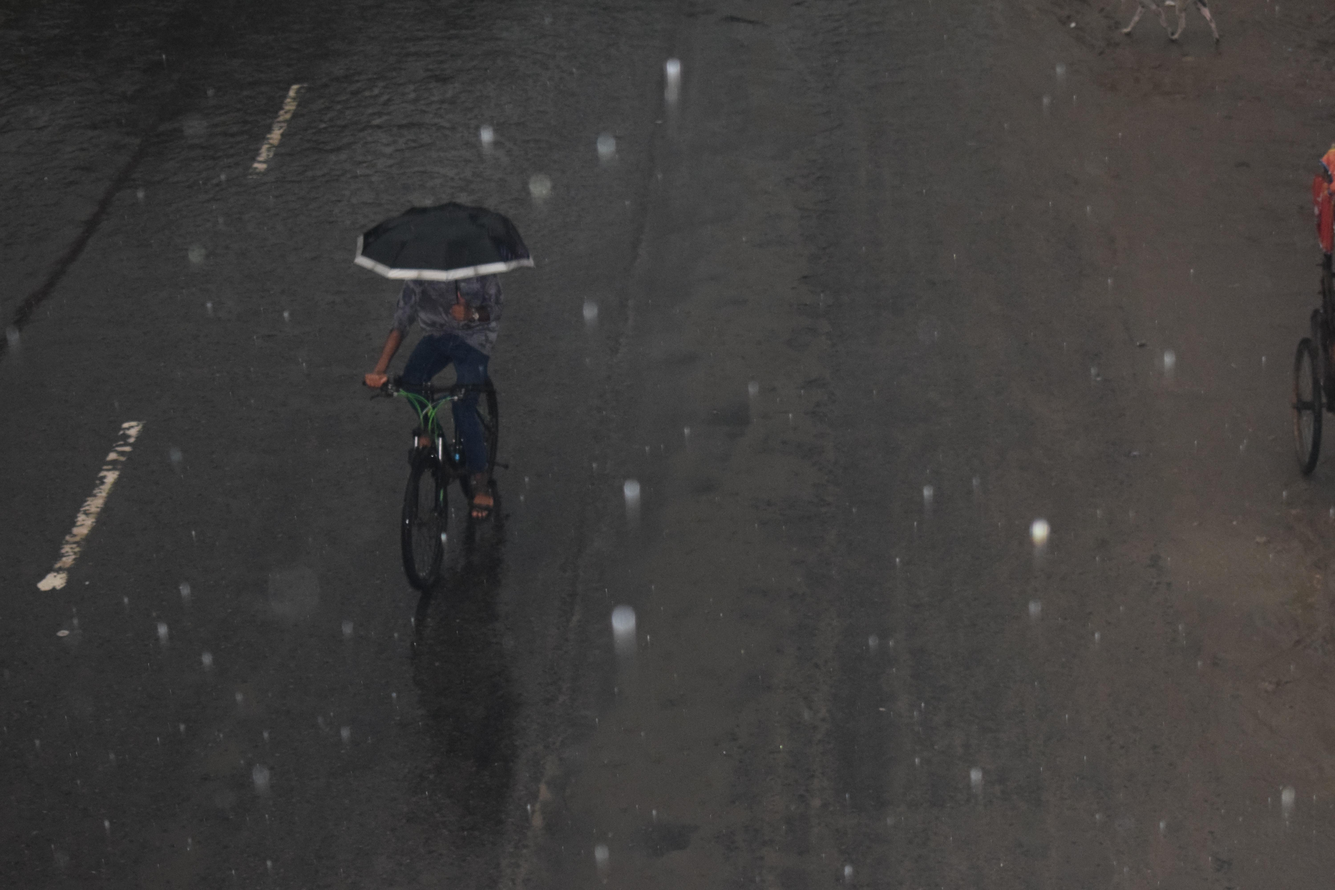Bike: (281, 167, 604, 666)
